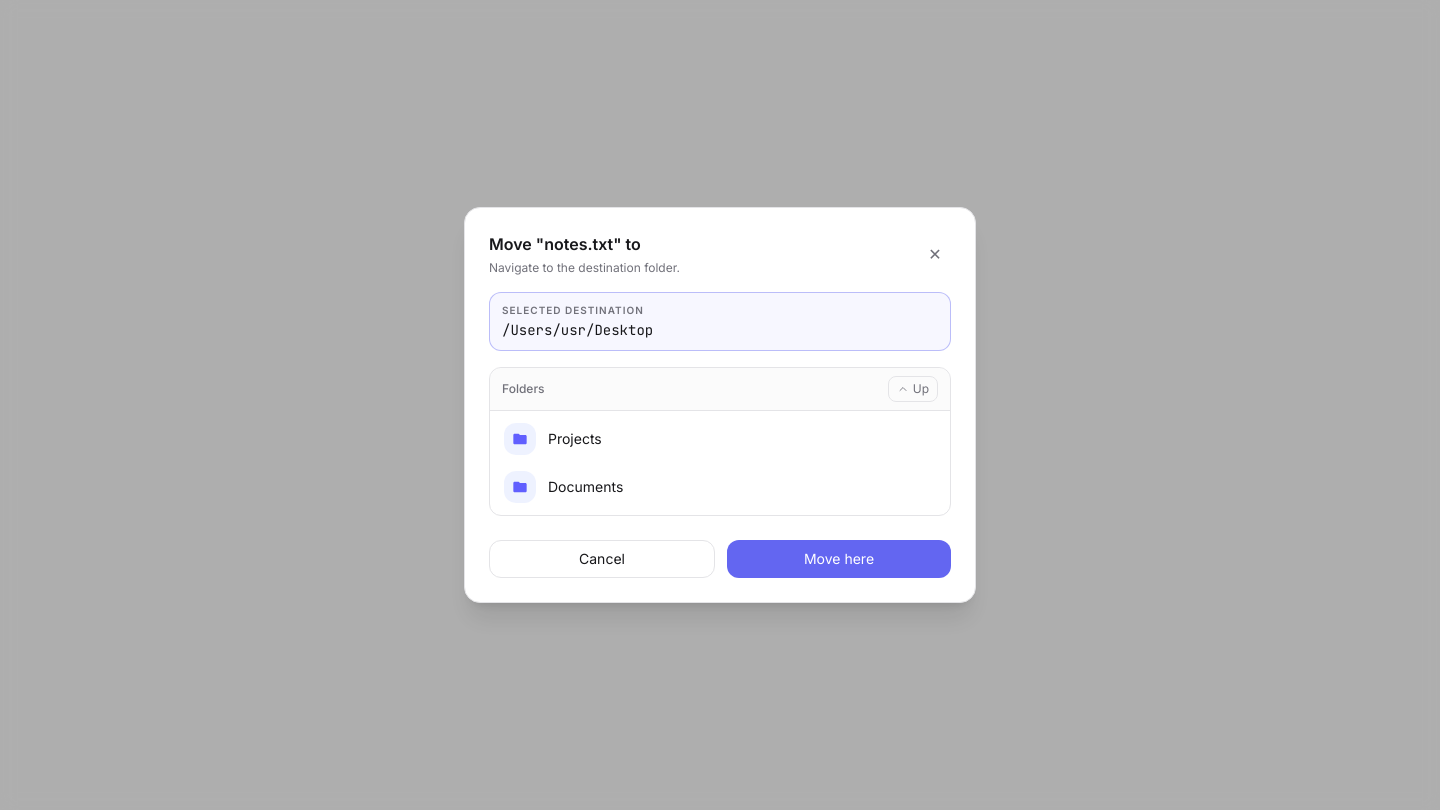
it: MoveFolderDialog › navigates into a folder via real provider data
The image size is (1440, 810).
Click the button "Projects". click: (520, 439)
box: [494,415,946,463]
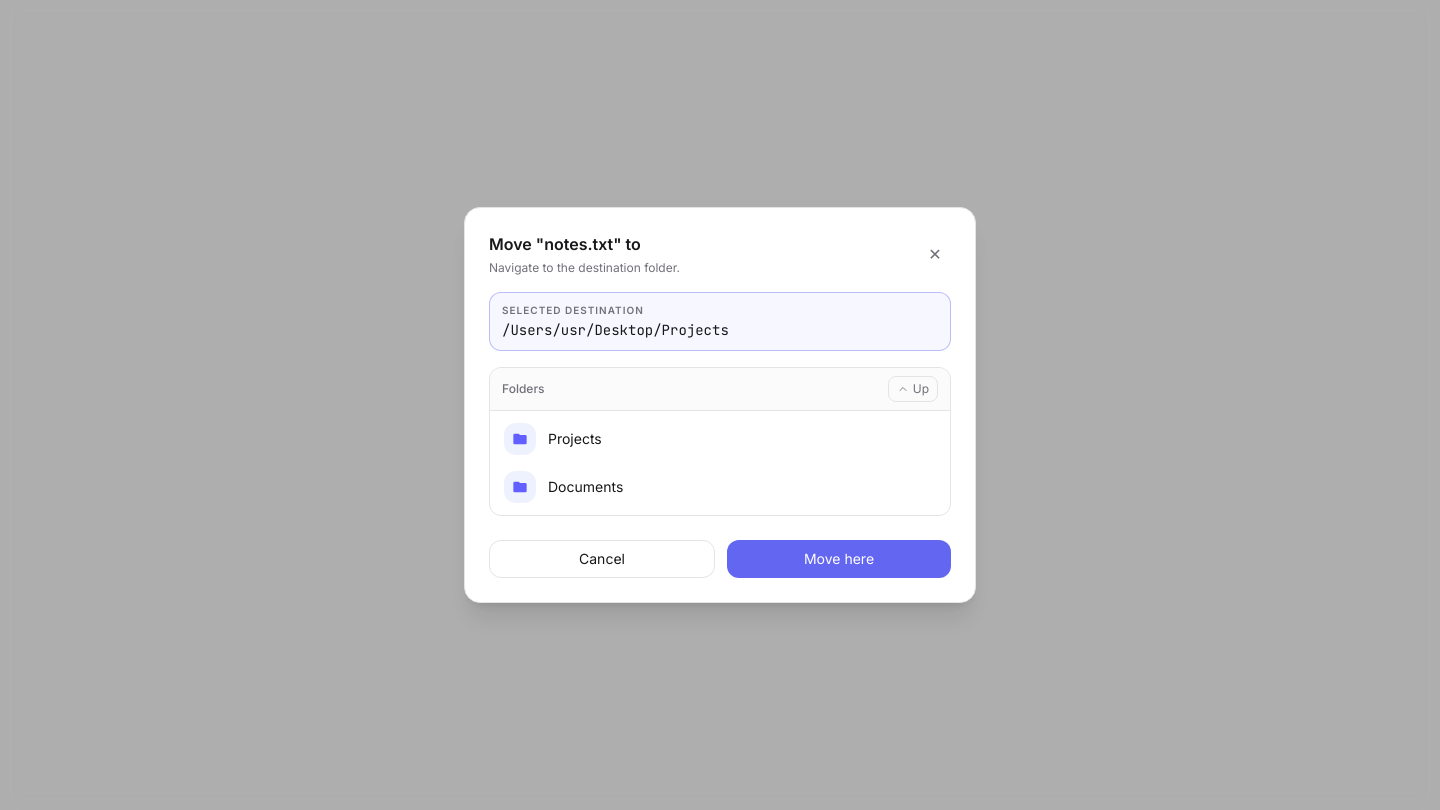
Check: the text "/Users/usr/Desktop/Projects" is shown, box [502,321,729,339]
